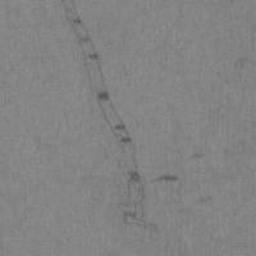Water spot: (56, 0, 178, 243)
